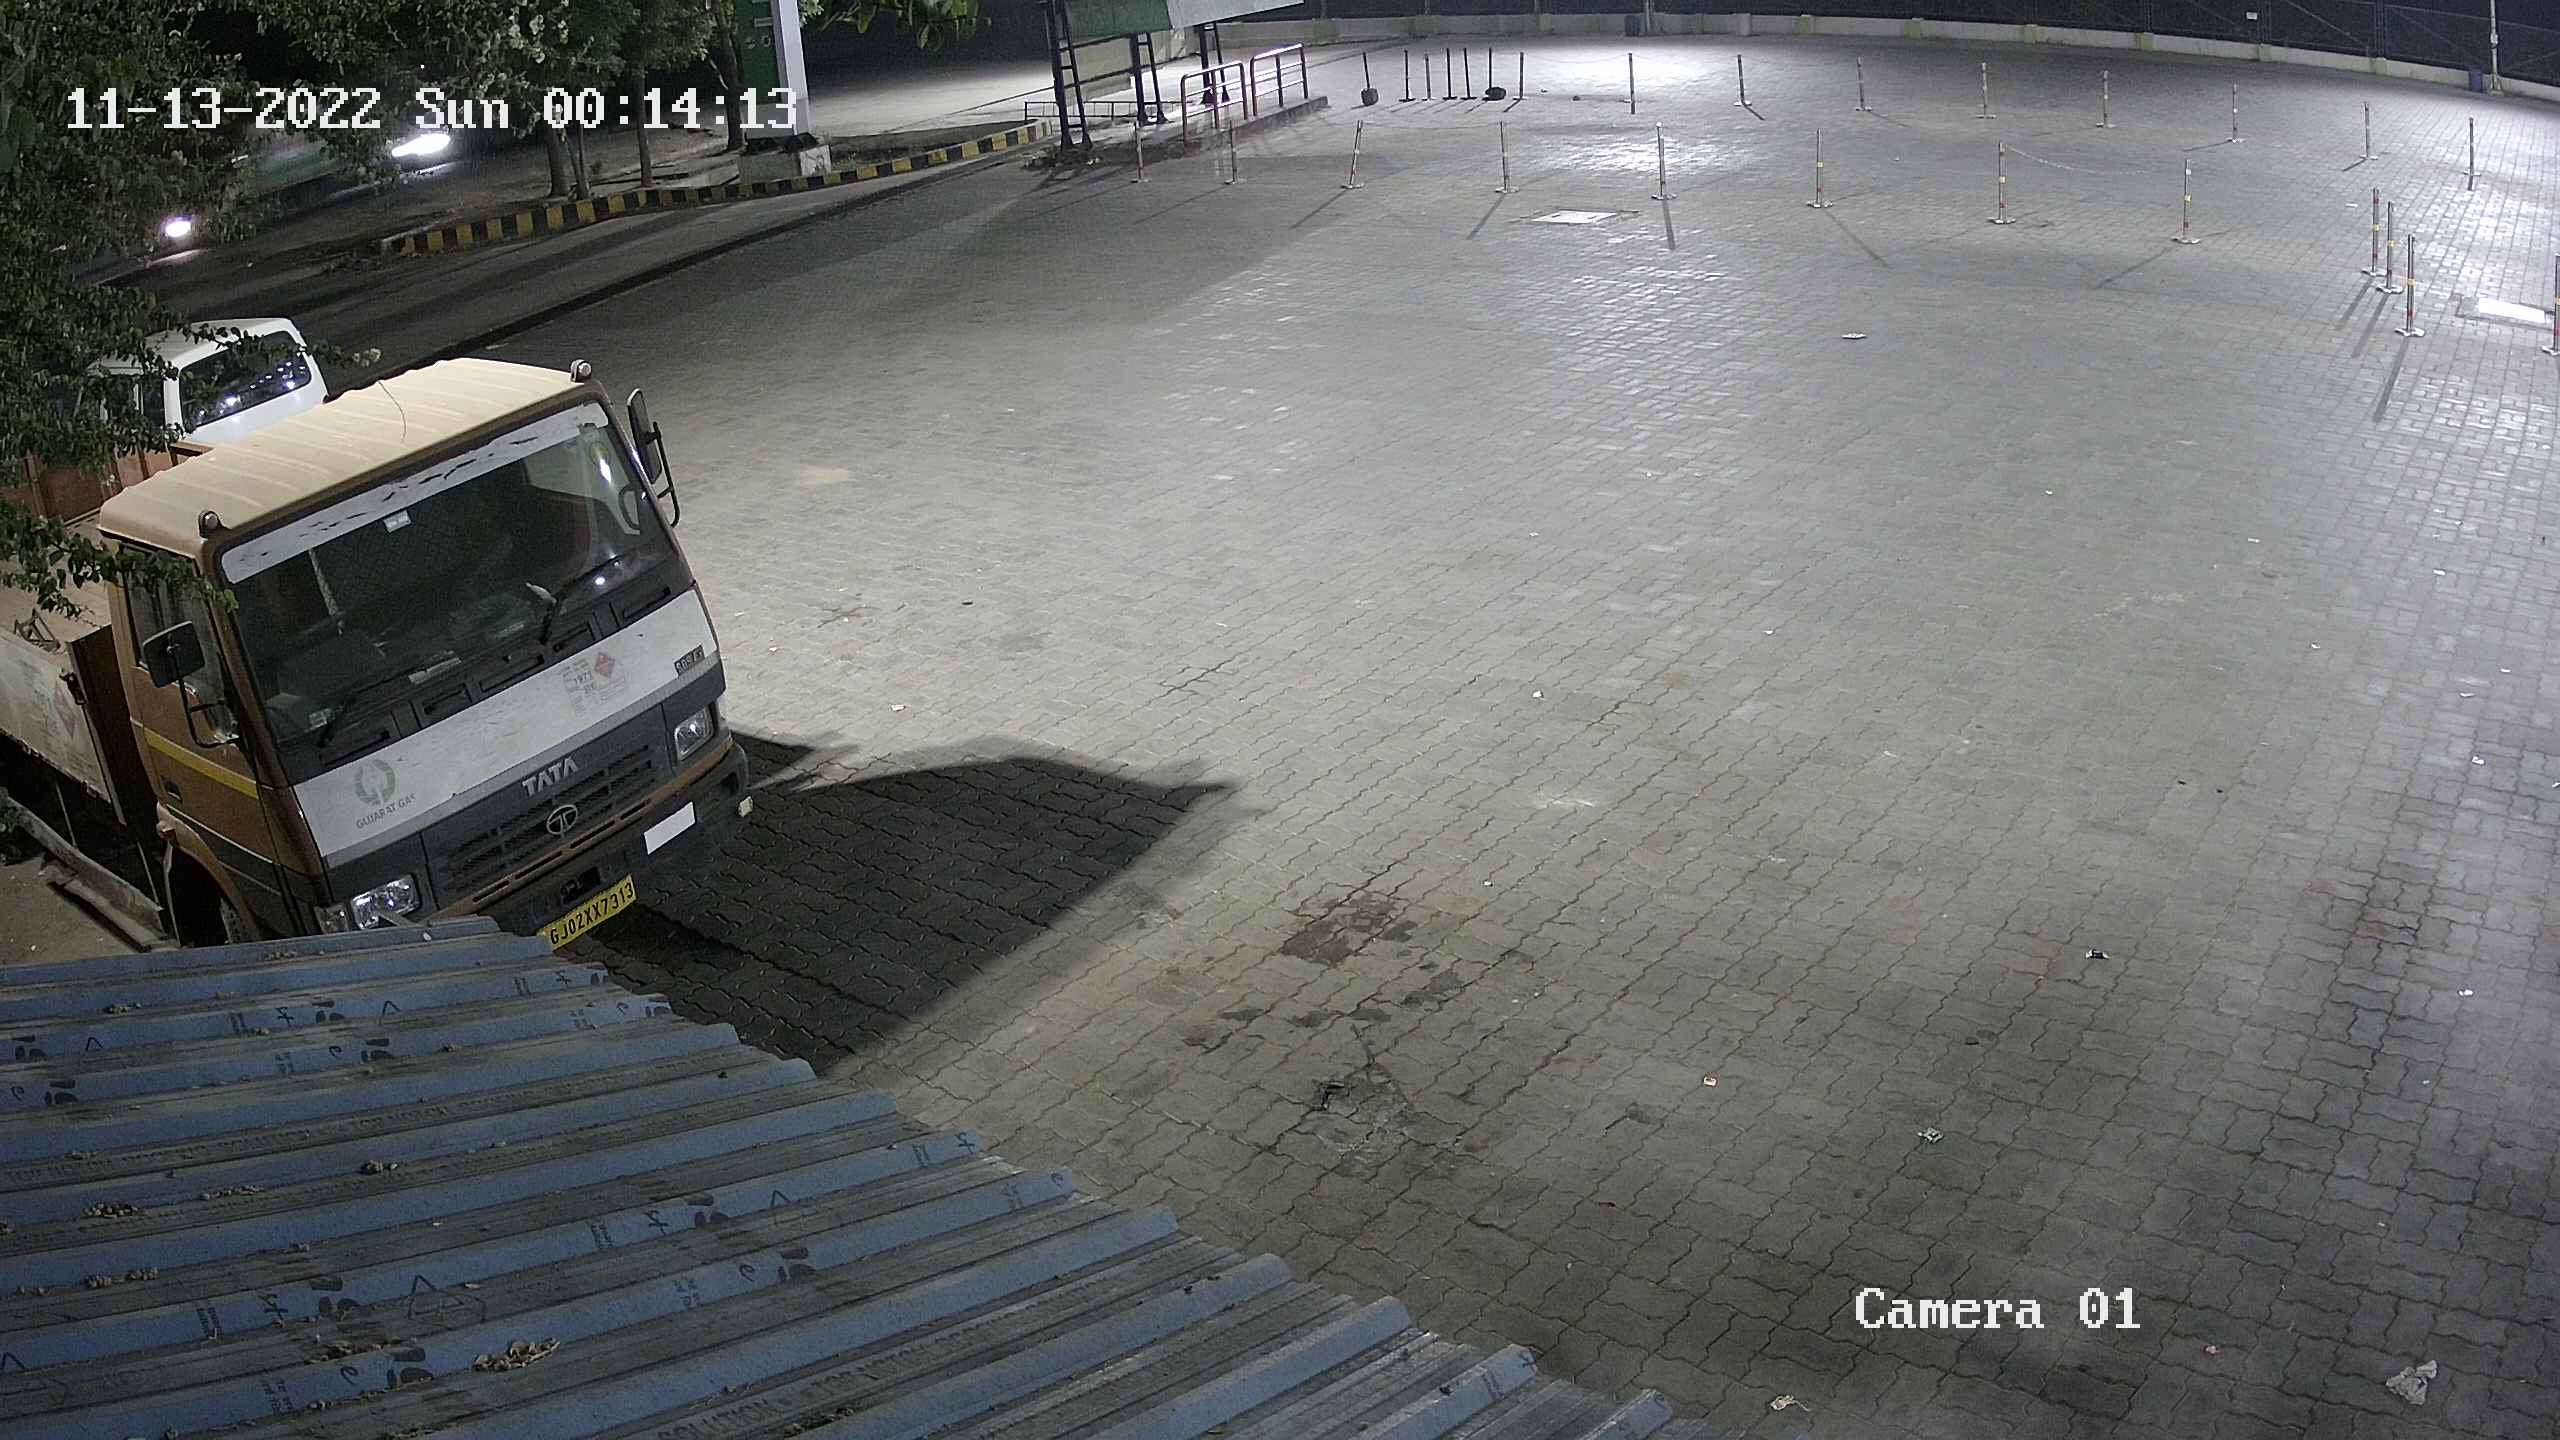Car: (55, 306, 359, 452)
HMV: (2, 345, 777, 971)
